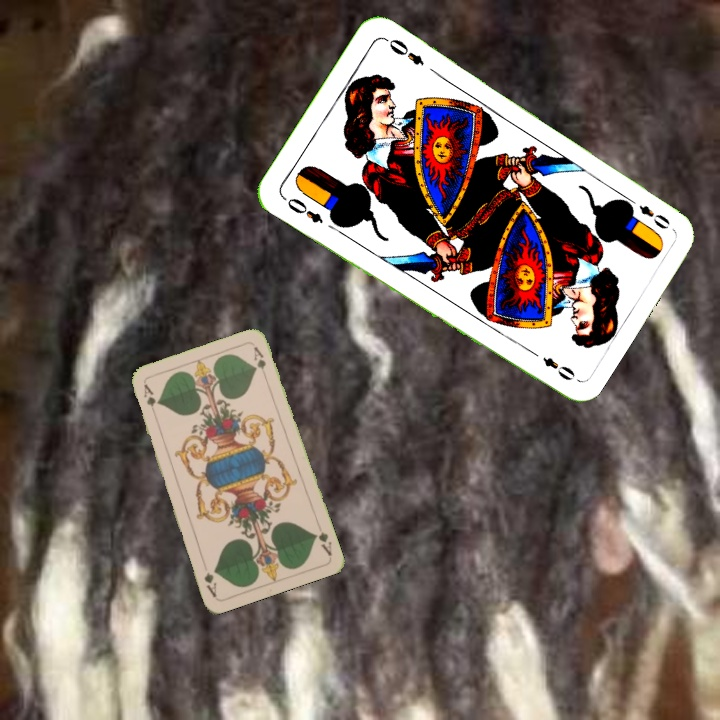EO: (621, 193, 673, 232), (279, 193, 326, 226)
GA: (139, 380, 159, 420), (311, 528, 335, 559)
